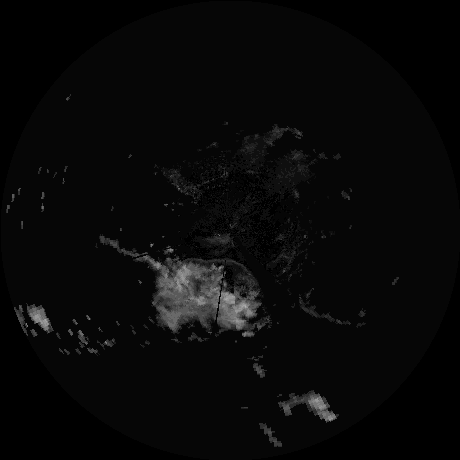frontgust: (183, 257, 257, 289)
